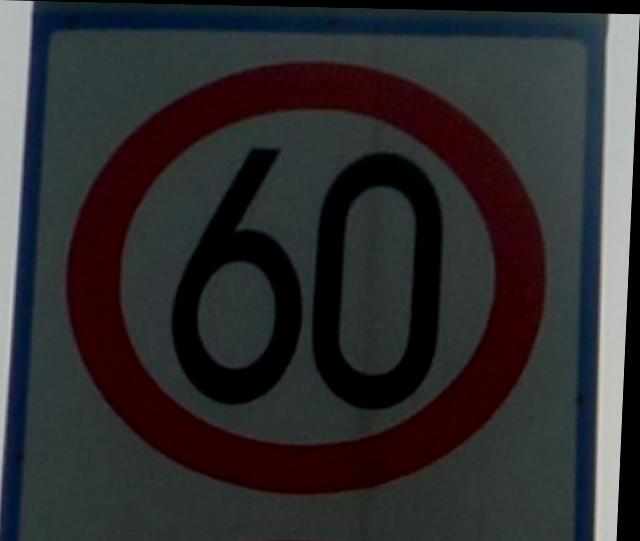limit60: (48, 43, 567, 506)
